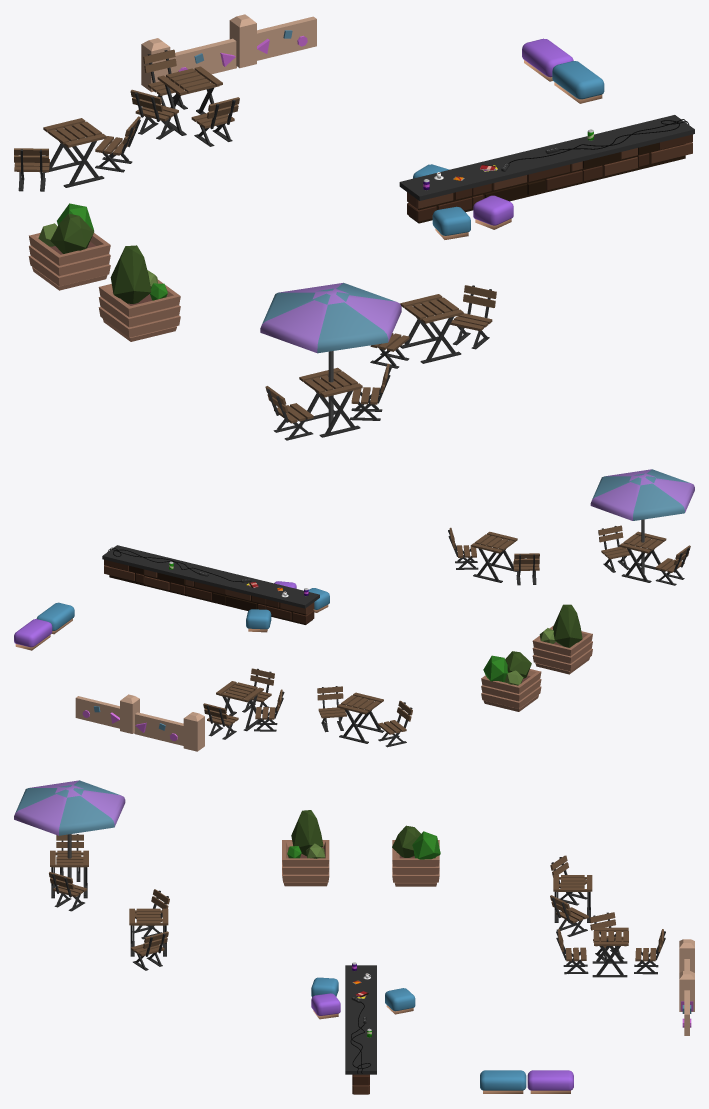
The model's file is dTShape Sampleroom - Deko.glb.
3 renders of one model, top to bottom at view 1: azimuth 30°, elevation 25°; view 2: azimuth 150°, elevation 25°; view 3: azimuth 270°, elevation 25°, orthographic. The views are drawn at different scales.
Visible parts, largest first — view 1: T-Room Arcade; view 2: T-Room Arcade; view 3: T-Room Arcade.
Boxes of the visible parts, left/top/right/bottom form: T-Room Arcade: left=14, top=14, right=694, bottom=440; T-Room Arcade: left=14, top=469, right=694, bottom=751; T-Room Arcade: left=14, top=780, right=694, bottom=1094.
Size of the model in its own units: 14.08 by 2.94 by 17.3.
2 materials, 2 textured.
